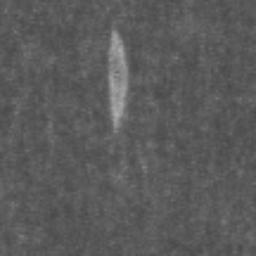White rust: (107, 29, 129, 134)
